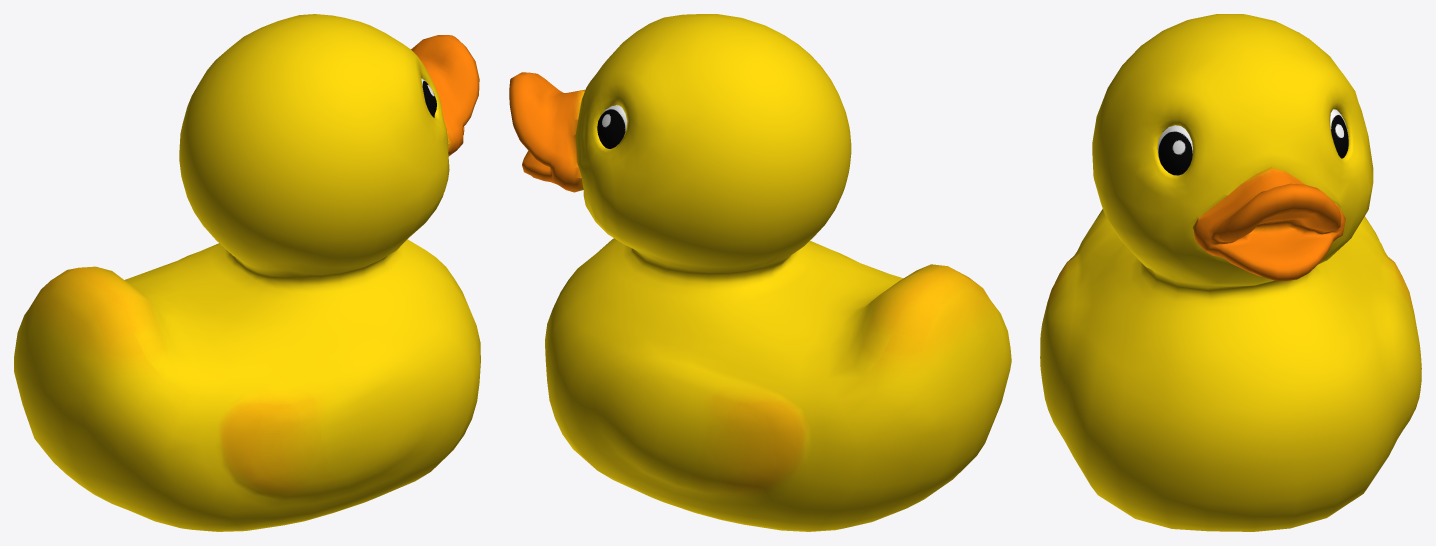
File: Duck-vp-12-vt-12-vn-12.glb
3 views of the same model, side by side, from view 1: azimuth 30°, elevation 25°; view 2: azimuth 150°, elevation 25°; view 3: azimuth 270°, elevation 25° (orthographic). The views are drawn at different scales.
Size of the model in its own units: 1.65 by 1.54 by 1.15.
1 material, 1 textured.
